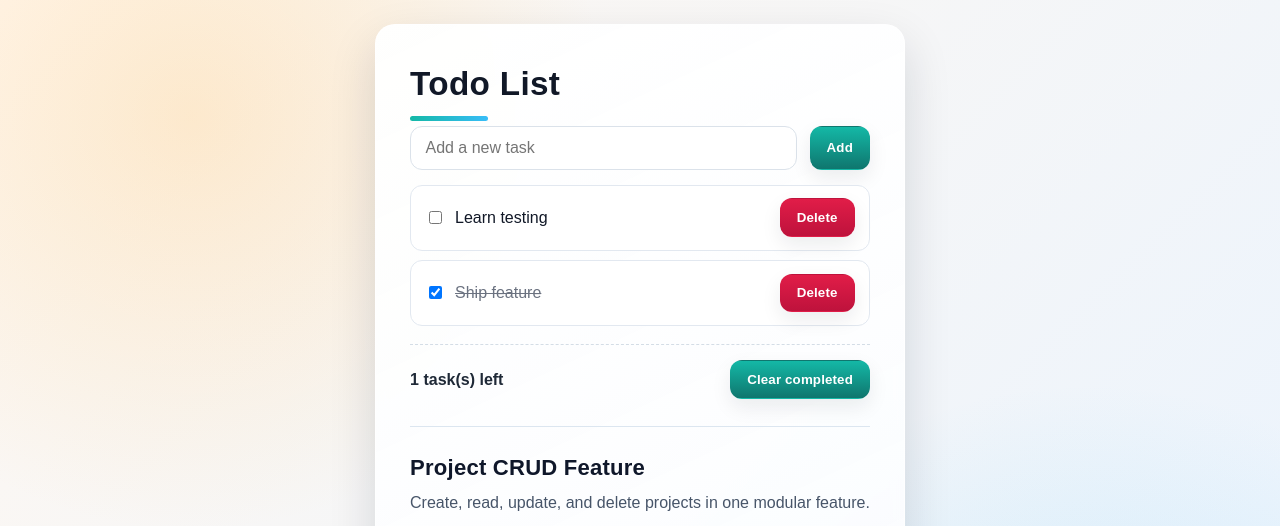
Test: App › validates duplicate tasks
Check: the text "Learn testing" is shown, box [455,206,548,230]
Type "learn testing" into the field labelled "Add a new task" at (604, 148), box [410,126,797,170]
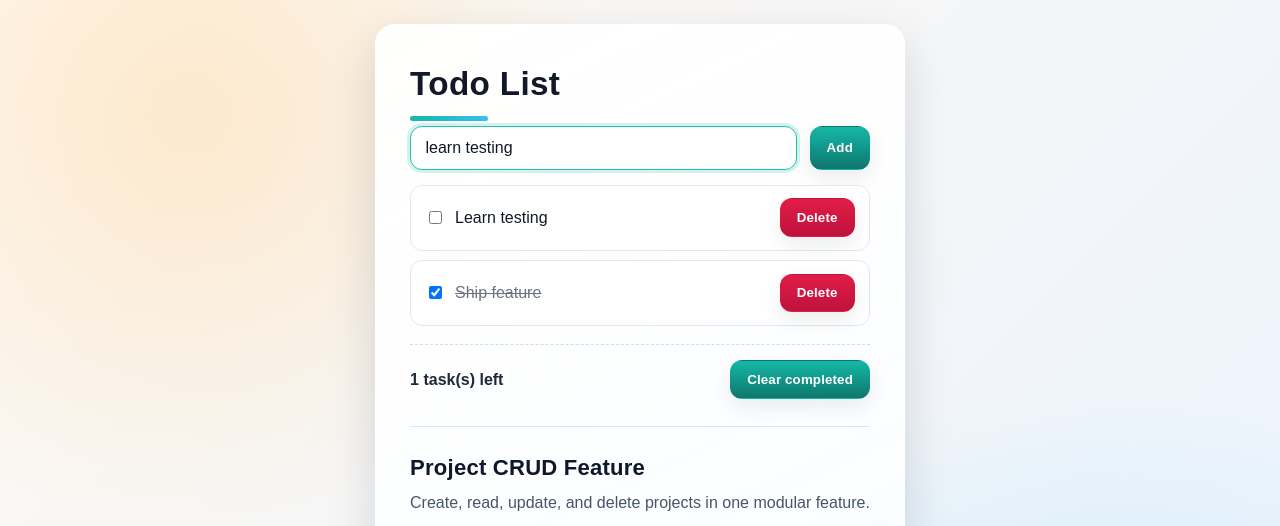
Click the button "Add" at (840, 148), box [810,126,870,170]
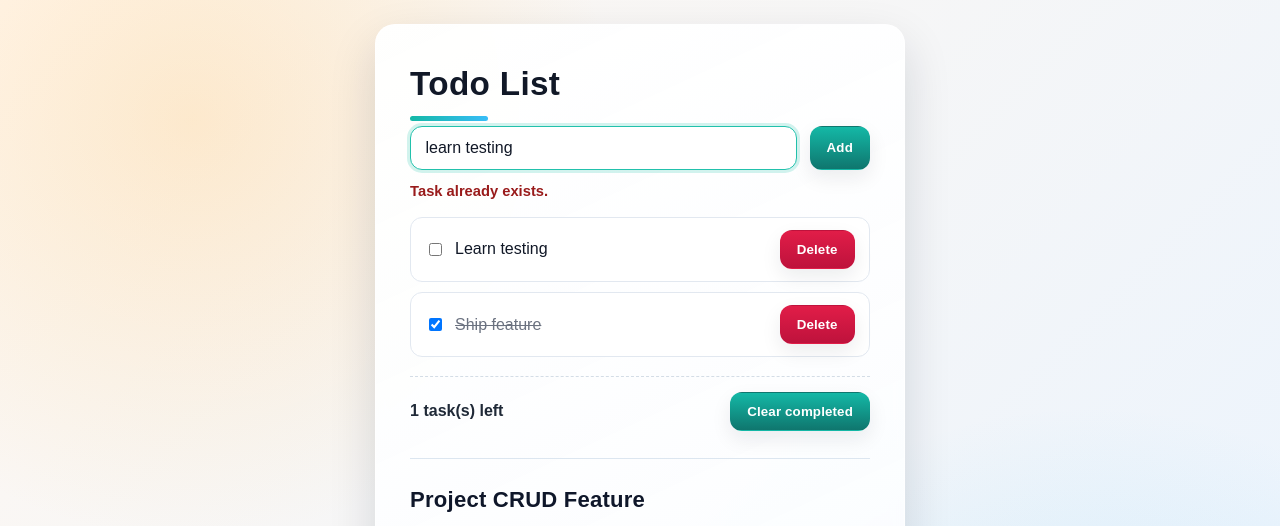
Check: the text "Task already exists." is shown, box [410,183,548,199]
